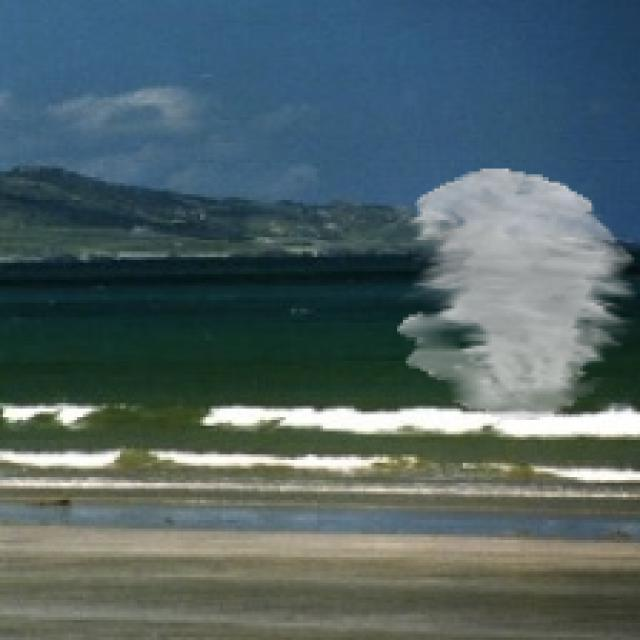Smoke: (397, 168, 637, 420)
